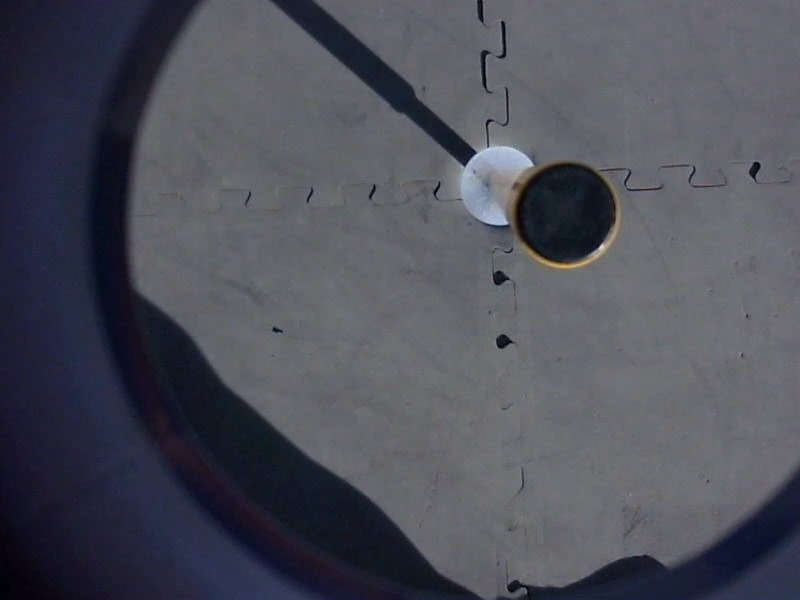tip: (508, 155, 624, 275)
